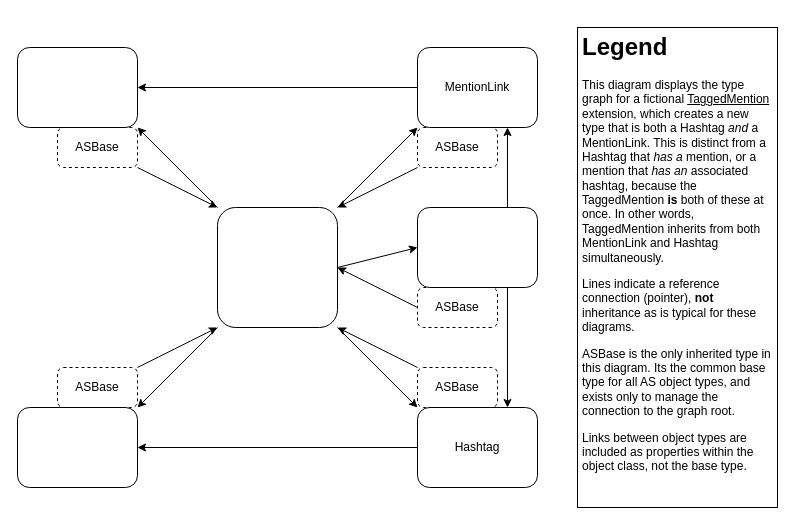
Some shapes in this 795 by 525 pixel diagram are drawn without their labels. Here are the shapes that lost their labels. From the top down, the centre of each, then its label:
At (77,87): "ASLink".
At (277,267): "TypeMap".
At (477,247): "TaggedMention".
At (77,447): "ASObject".
